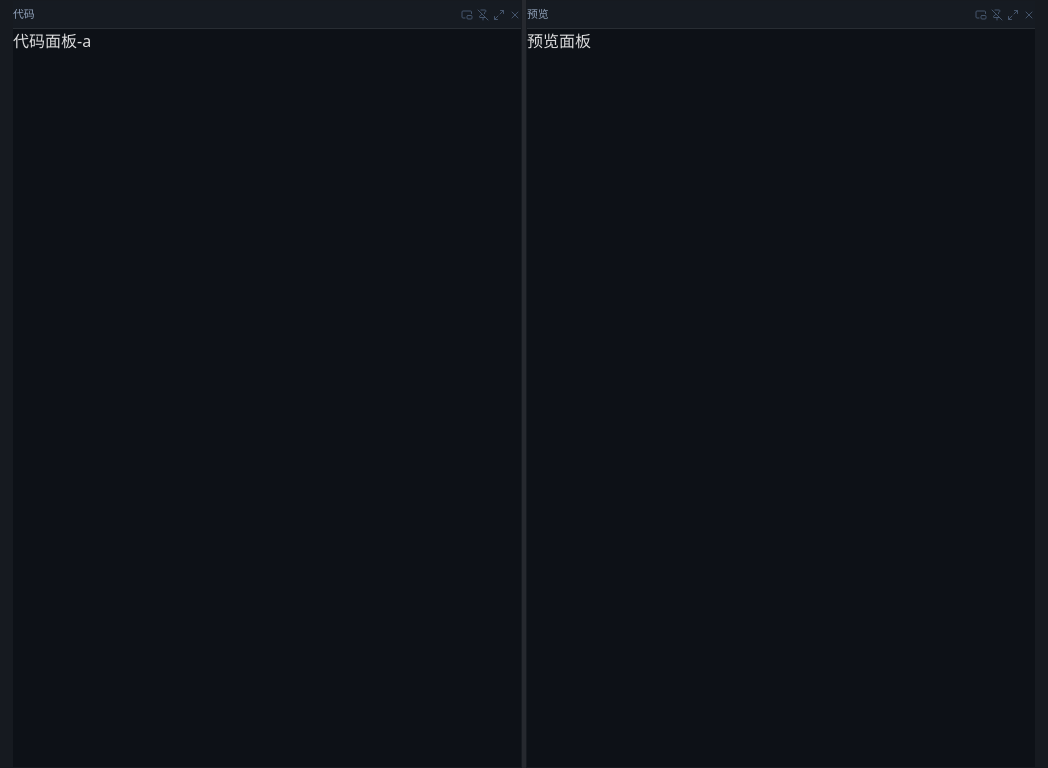
Test: PanelShell（渲染 + 上下文编辑） › 关闭叶子后该面板从渲染中消失
Expected: the text "预览面板" is shown, [527,30,591,52]
Click the 2nd button titled "关闭" at (1029,14), box [1023,8,1035,20]
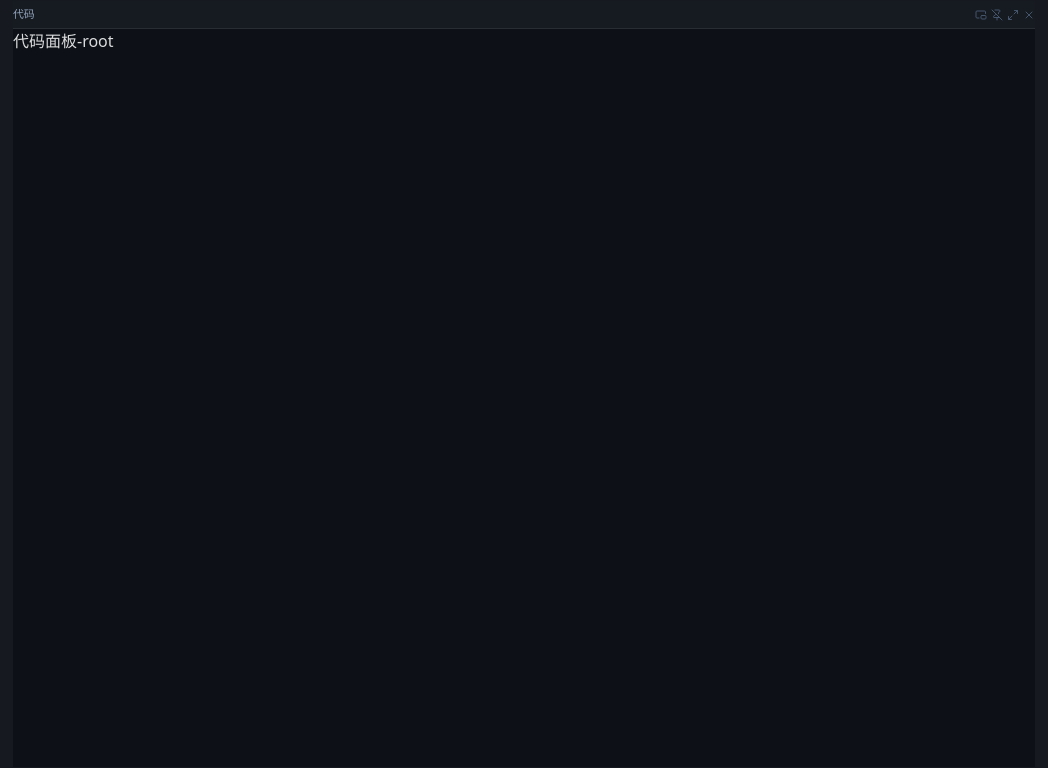
Expected: the text "预览面板" is gone
